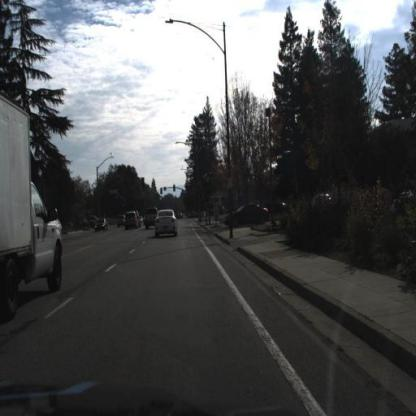car: (224, 203, 269, 226), (153, 207, 177, 237), (145, 208, 159, 231), (126, 211, 139, 231), (93, 218, 109, 234), (117, 212, 126, 233)
truck: (3, 95, 65, 315)
